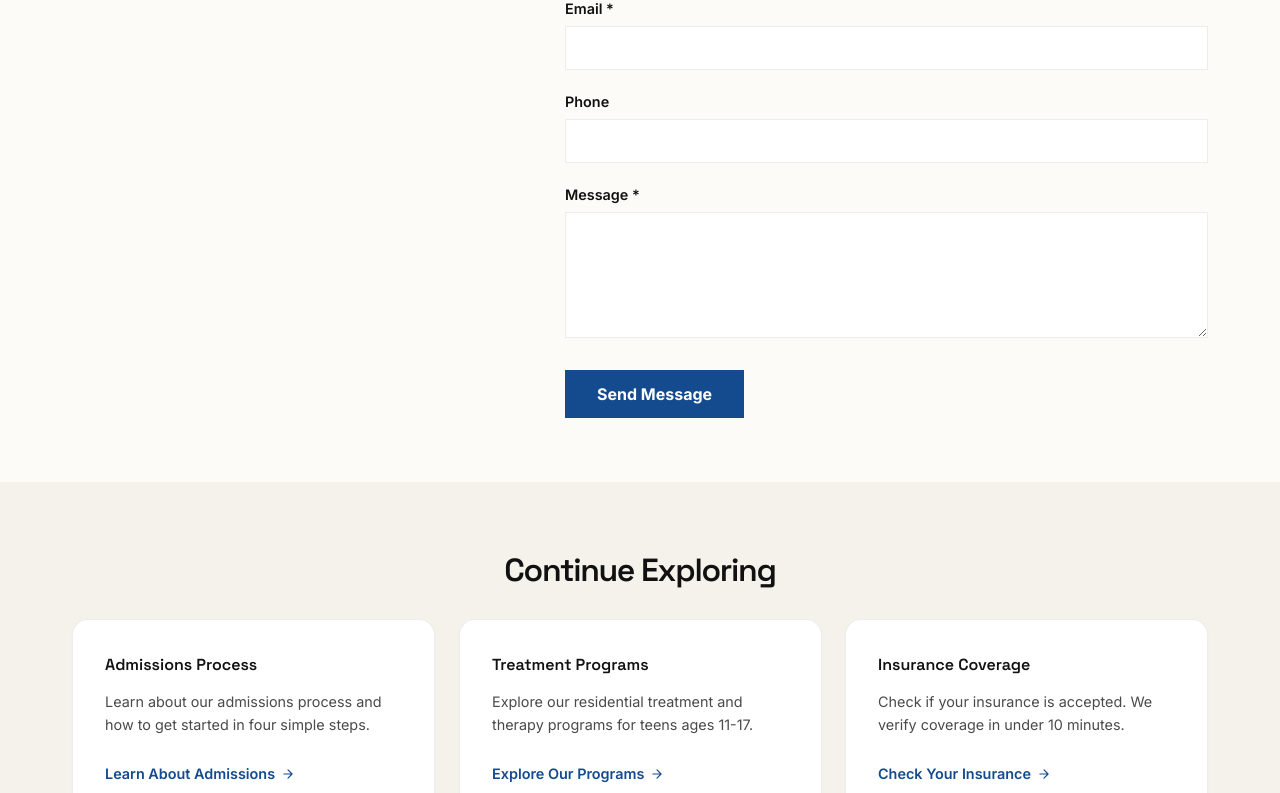
Scenario: Contact — client-side validation › shows error when email is empty
(page scrolled)
Click the button "Send Message": (654, 394) [565,370,744,418]
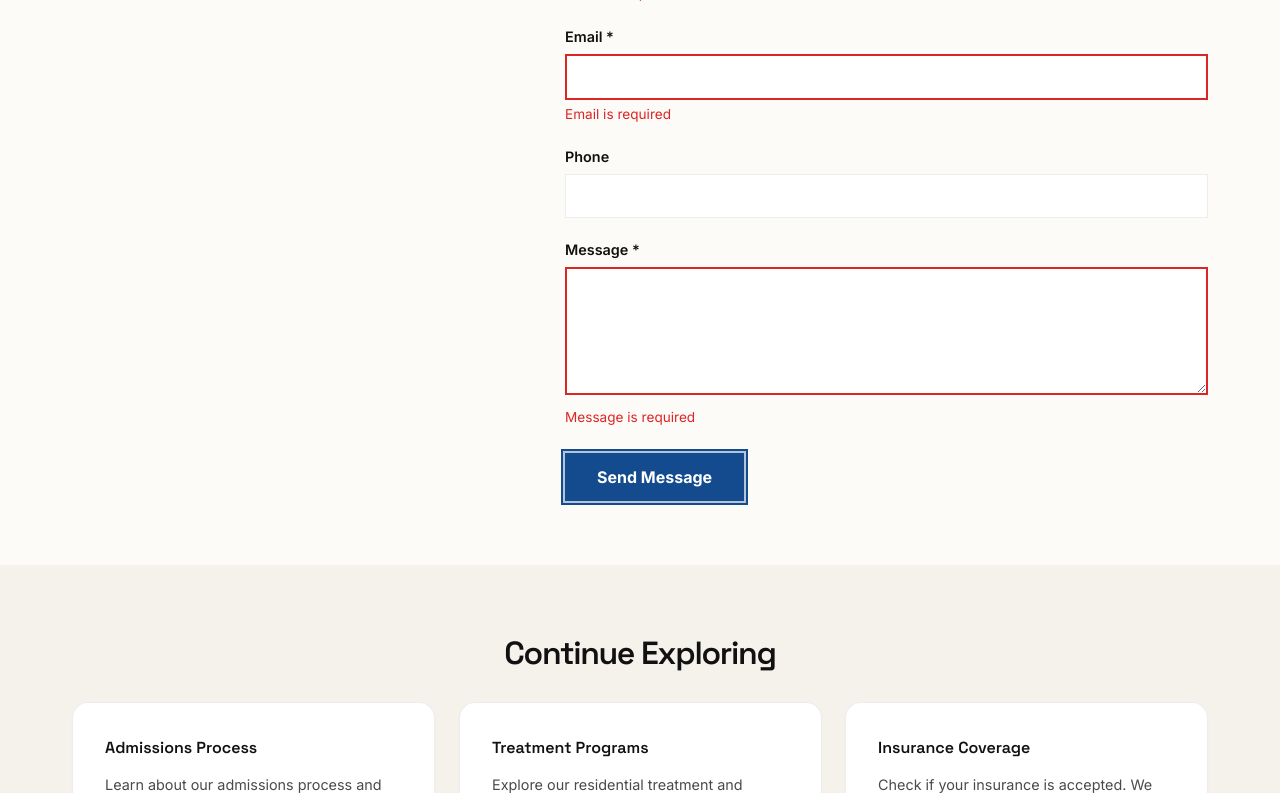
Expected: the text "Email is required" is shown, [565,106,671,122]
